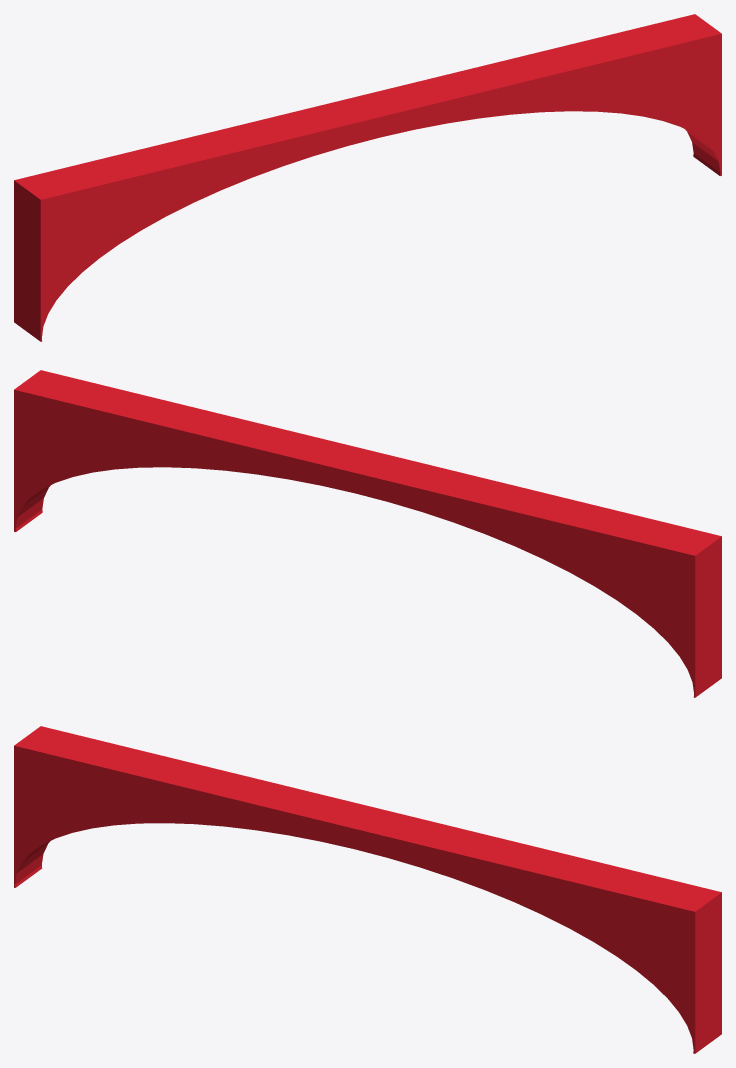
The model's file is tinker 1.obj.
The picture shows the model from 3 angles, top to bottom: view 1: azimuth 30°, elevation 25°; view 2: azimuth 150°, elevation 25°; view 3: azimuth 330°, elevation 25°; orthographic projection.
Visible parts, largest first — view 1: obj_0; view 2: obj_0; view 3: obj_0.
Part boxes in pixels (x1=…): obj_0: x1=14, y1=14, x2=721, y2=341; obj_0: x1=14, y1=370, x2=721, y2=697; obj_0: x1=14, y1=726, x2=721, y2=1053.
Size of the model in its own units: 132 by 26.3 by 9.
